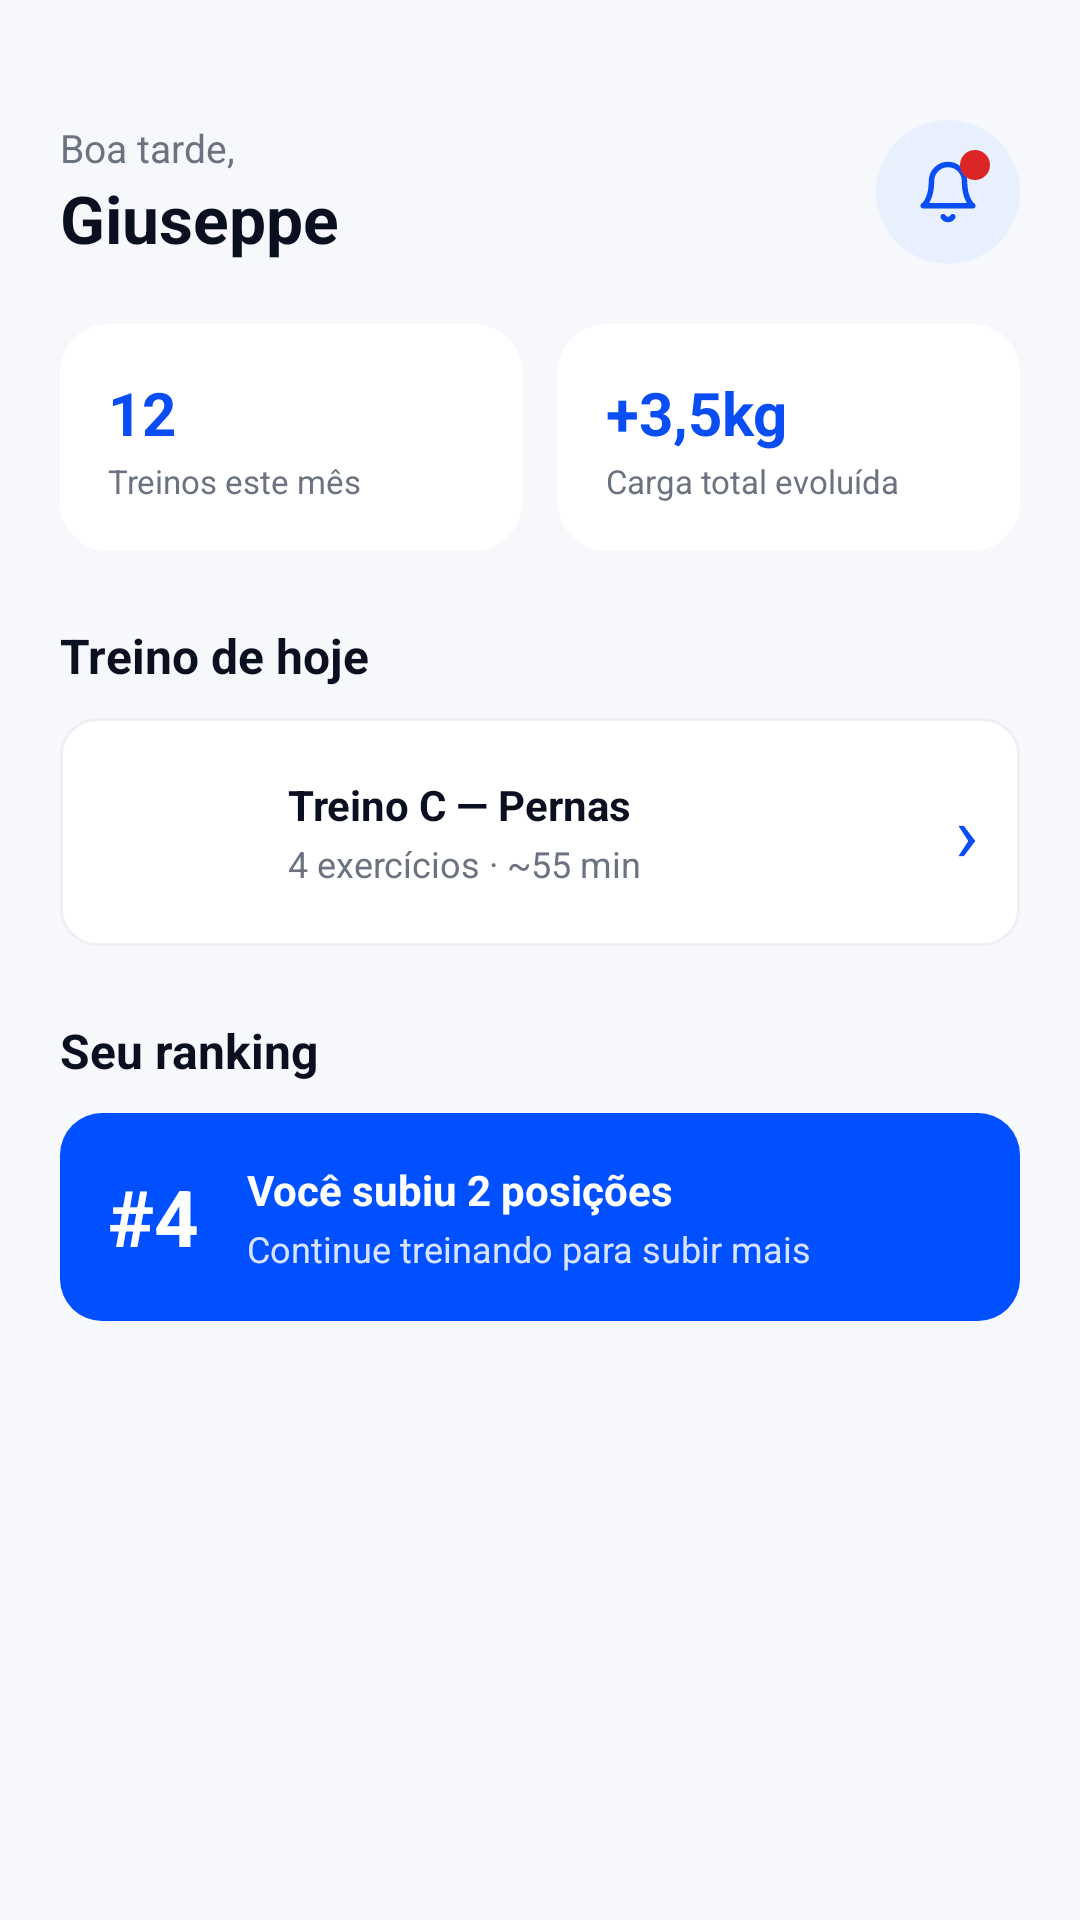

Where icons sit on this 1080w x 1920h app screen, as [x1, y1, x2, y2]:
sino: [920, 159, 981, 223]
